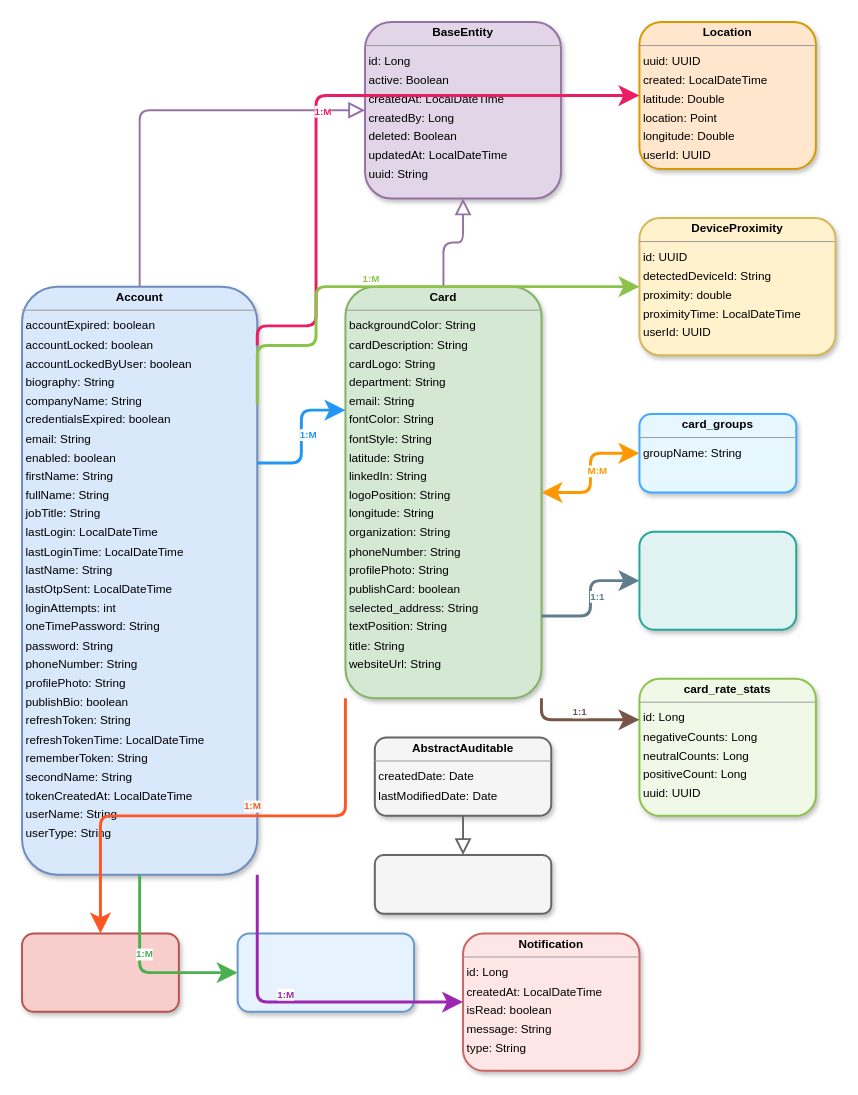
This 858x1095 diagram has some shape labels left out. The centre of each missing label's shape, as x and y in pixels:
AbstractPersistable id: PK: (x=463, y=885)
card_links qrCodeUrl: String url: String userUuid: String: (x=718, y=581)
MyCards favourites: Boolean: (x=101, y=973)
SavedCard id: Long savedDate: LocalDateTime: (x=326, y=973)
